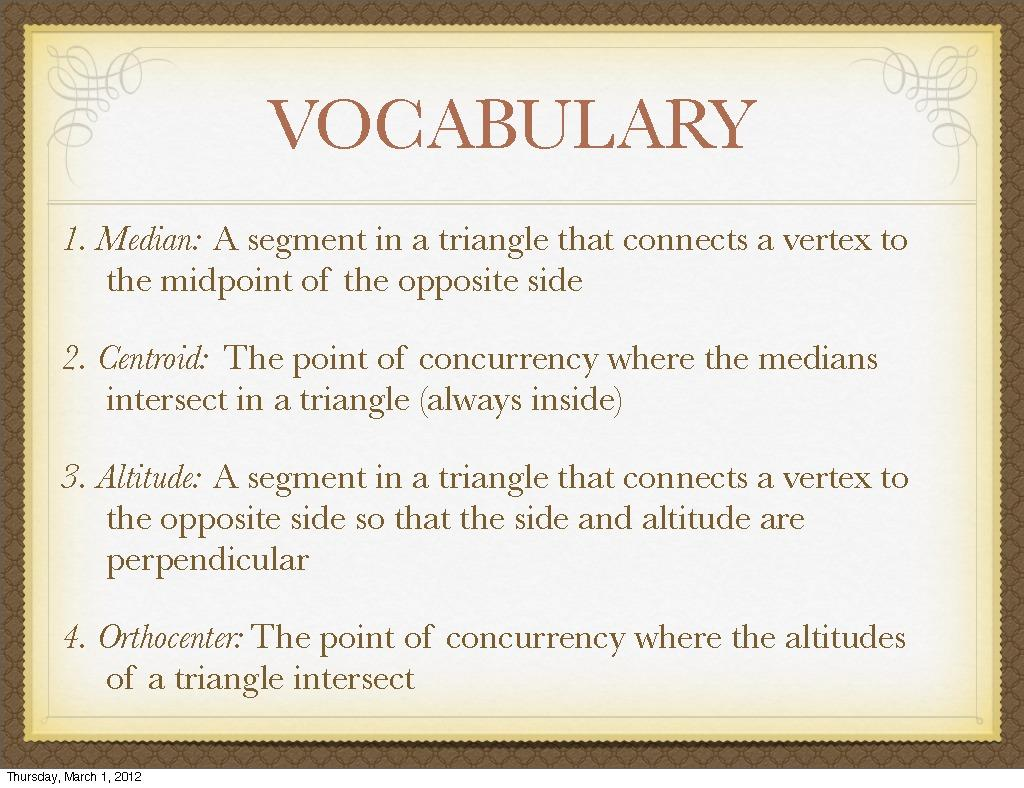paragraph: (57, 206, 964, 714)
title: (243, 64, 793, 176)
